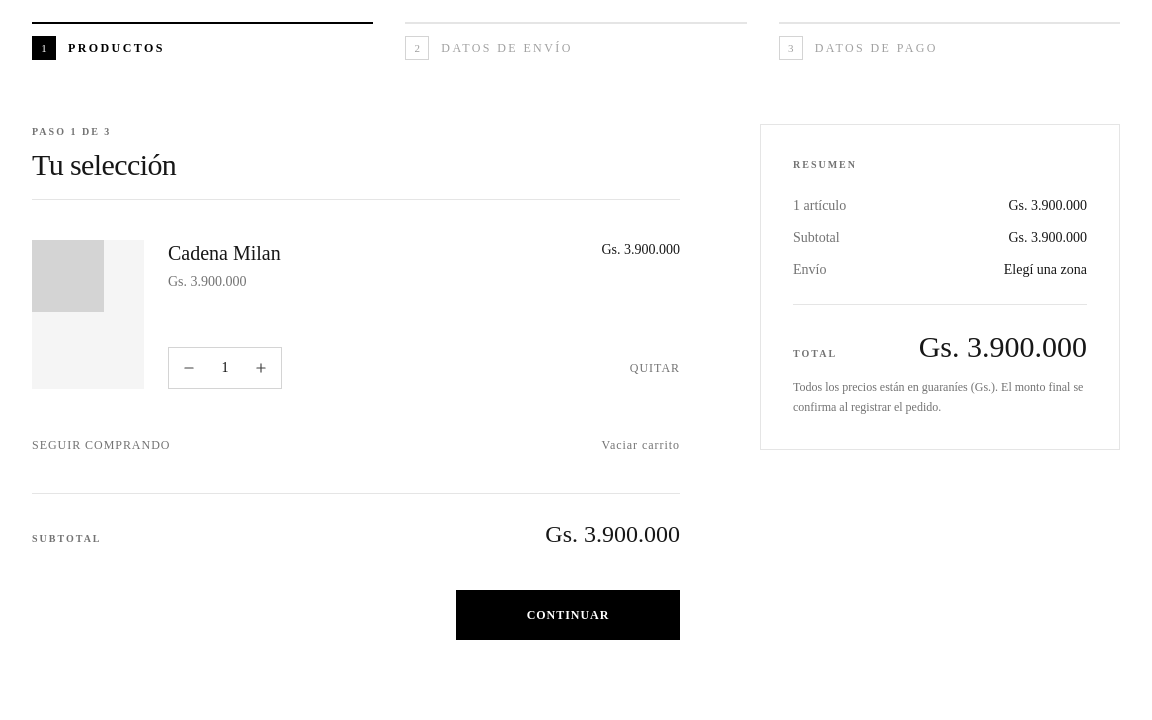
it: CheckoutFlow: step 2 (shipping) › cannot advance with an empty form and shows the validation messages
(page scrolled)
Click the button "Continuar" at x=568, y=615, box [456,590,680,640]
(page scrolled)
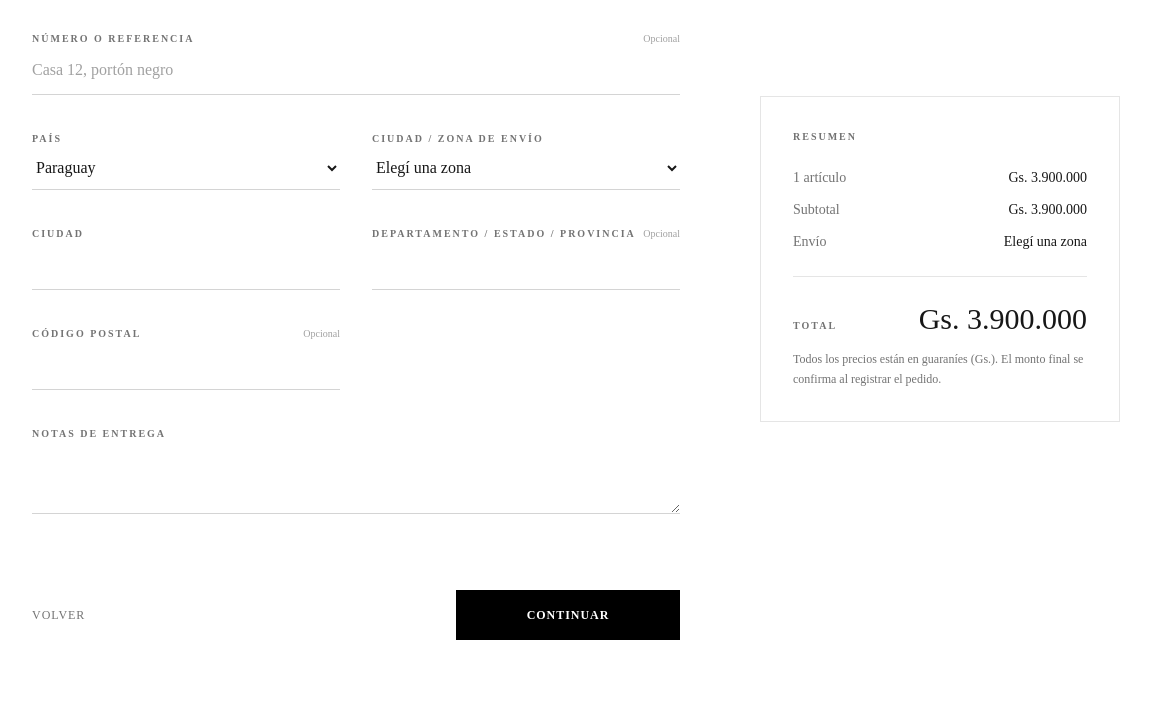
Click the button "Continuar" at x=568, y=615, box [456,590,680,640]
(page scrolled)
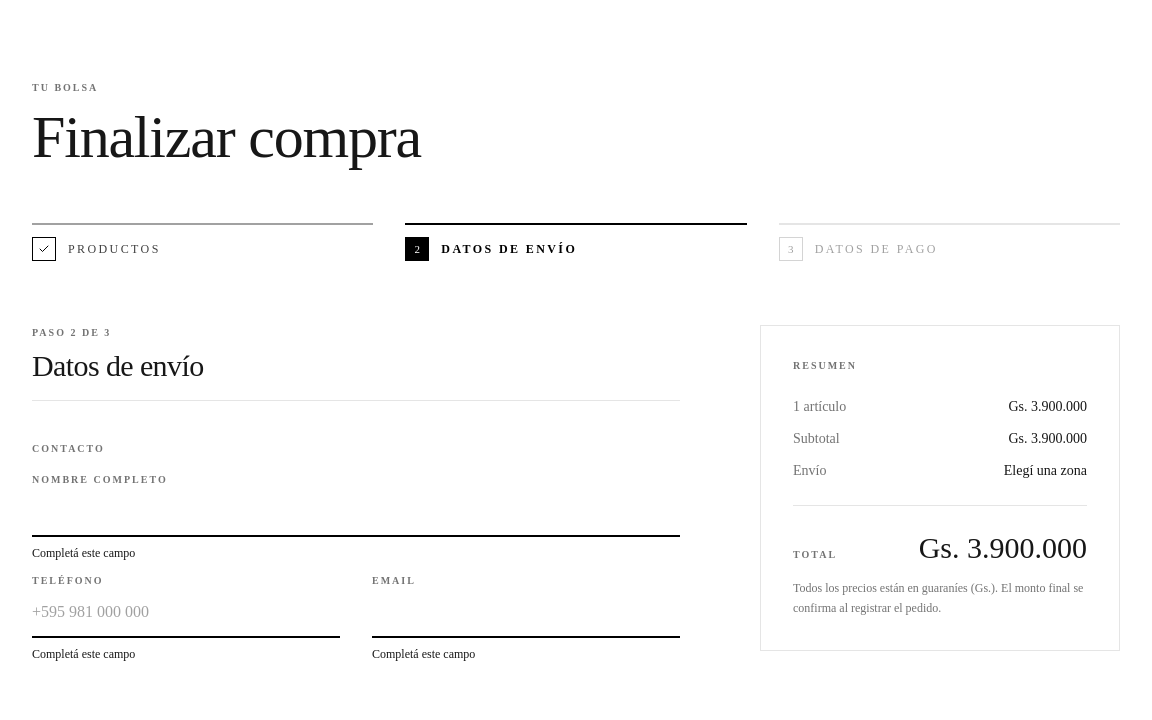
Expected: the list item "2 Datos de envío" is shown, [405,223,747,261]
Now the text "Completá este campo" is shown 5 times
